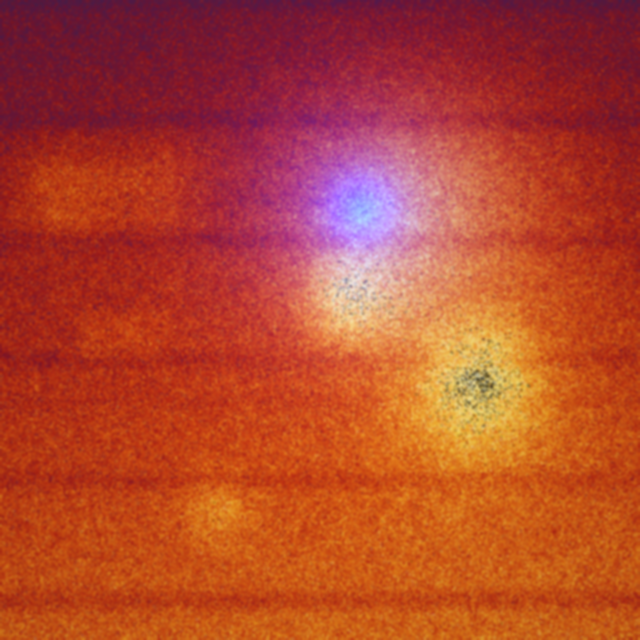nozzle: (338, 166, 429, 242)
